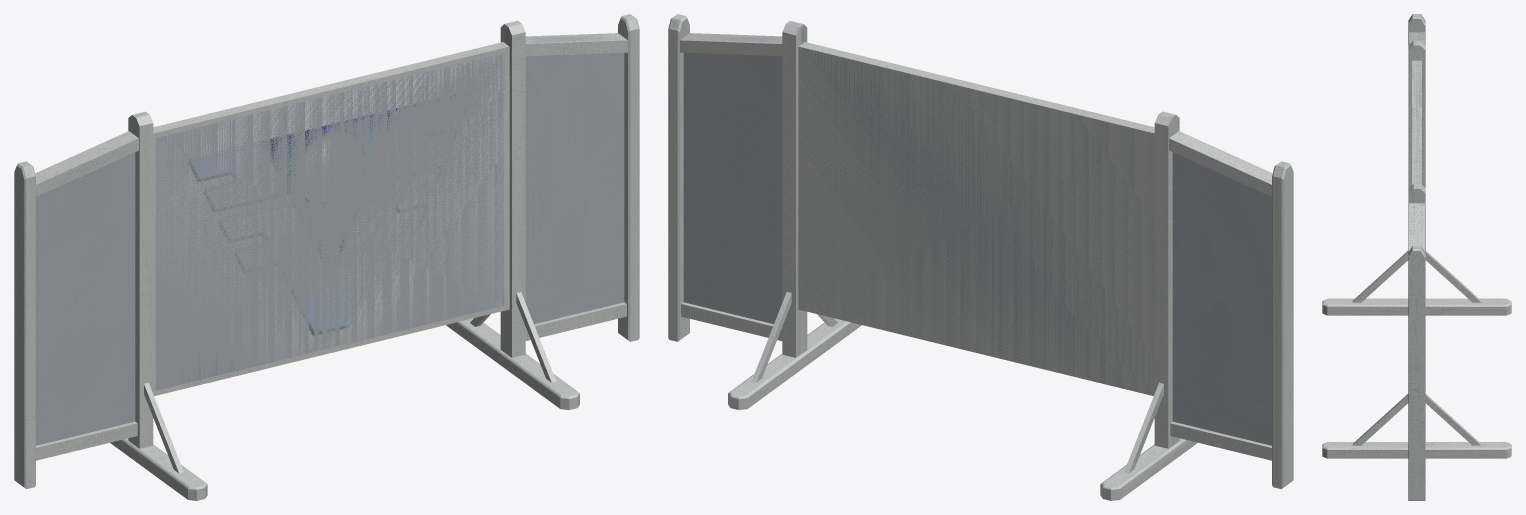
File: obs_tribuna.fbx
3 renders of one model, left to right at view 1: azimuth 30°, elevation 25°; view 2: azimuth 150°, elevation 25°; view 3: azimuth 270°, elevation 25°, orthographic. The views are drawn at different scales.
Visible parts, largest first — view 1: Group2, Group3, Group4, Component_1_2, Component_1_1; view 2: Group2, Group3, Group4, Component_1_2, Component_1_1; view 3: Component_1_1, Group4, Component_1_2, Group2, Group3.
Boxes of the visible parts, box(x1,y1,x2,y2) form: Group2: box(153, 42, 509, 396); Group3: box(14, 131, 138, 489); Group4: box(525, 14, 639, 341); Component_1_2: box(446, 20, 579, 409); Component_1_1: box(110, 111, 207, 500); Group2: box(798, 42, 1154, 396); Group3: box(1169, 131, 1293, 489); Group4: box(668, 14, 782, 341); Component_1_2: box(728, 20, 861, 409); Component_1_1: box(1100, 111, 1197, 500); Component_1_1: box(1322, 40, 1511, 315); Group4: box(1408, 203, 1425, 500); Component_1_2: box(1322, 183, 1511, 458); Group2: box(1412, 60, 1421, 184); Group3: box(1408, 14, 1425, 44).
Size of the model in its own units: 3.86 by 2.05 by 1.31.
